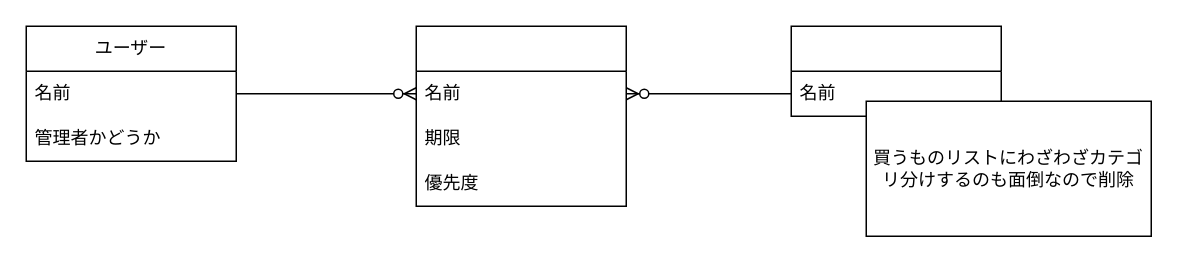
Image size: 1178x263. Some labels were removed from this diagram. The box of each missing label's shape, as (x1, y1, x2, y2) in pixels:
カテゴリ: (790, 25, 1001, 116)
買うもの: (415, 25, 626, 206)
